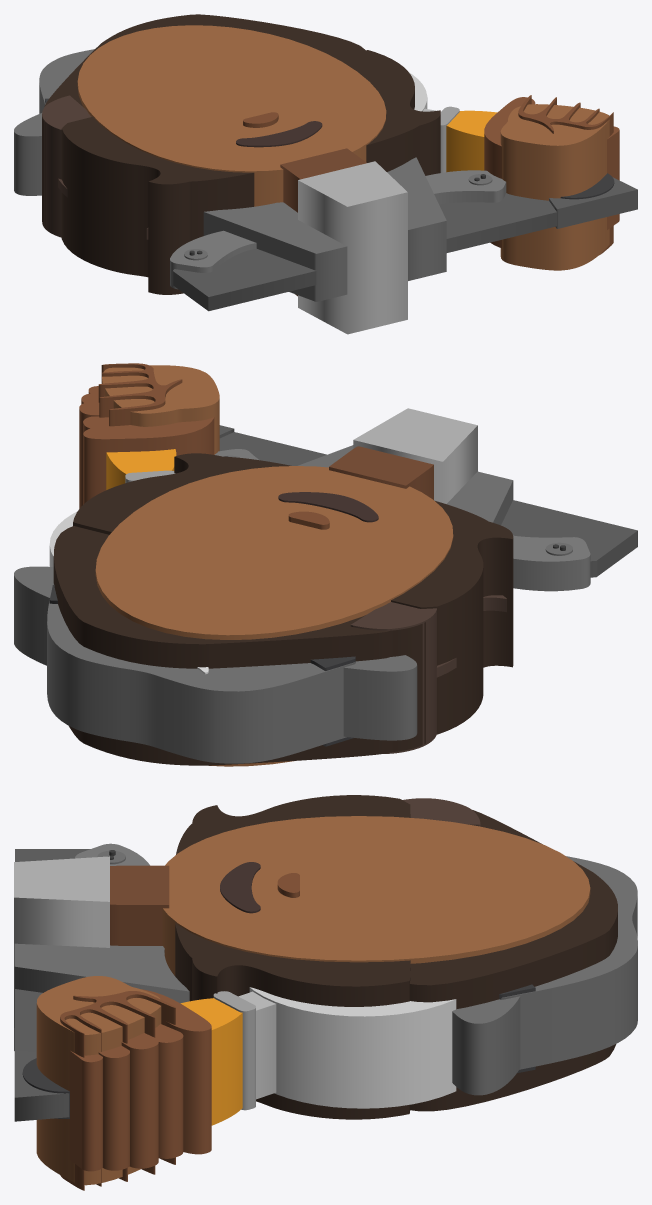
File: emoji_u1f575_1f3fe.glb
3 renders of one model, top to bottom at view 1: azimuth 30°, elevation 25°; view 2: azimuth 150°, elevation 25°; view 3: azimuth 270°, elevation 25°, orthographic. The views are drawn at different scales.
Parts seen in each view (by area): view 1: emoji_u1f575_1f3fe; view 2: emoji_u1f575_1f3fe; view 3: emoji_u1f575_1f3fe.
Part boxes in pixels (x1,y1,x2,y2): emoji_u1f575_1f3fe: (14, 14, 637, 334); emoji_u1f575_1f3fe: (14, 363, 637, 766); emoji_u1f575_1f3fe: (14, 795, 637, 1190).
Bounding box in the file's own units: 0.0326 × 0.0092 × 0.0331.
